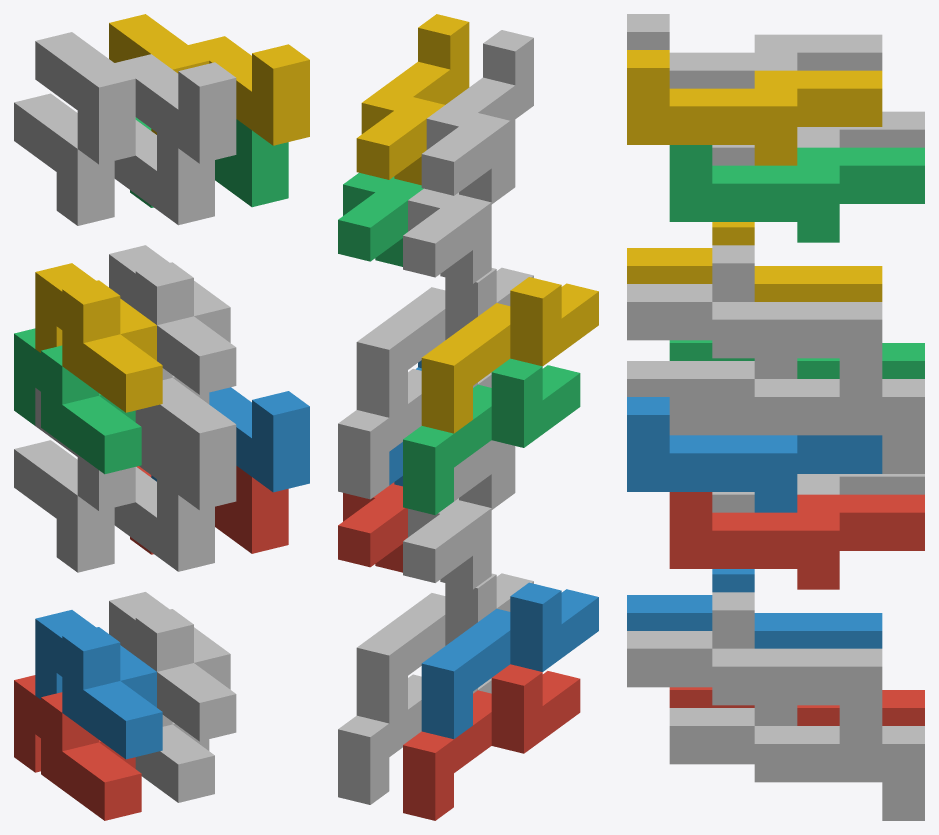
File: tiling.obj
3 renders of one model, left to right at view 1: azimuth 30°, elevation 25°; view 2: azimuth 150°, elevation 25°; view 3: azimuth 270°, elevation 25°, orthographic. The views are drawn at different scales.
Parts seen in each view (by area): view 1: copy_2_domain_4, copy_2_domain_1, copy_2_domain_3, copy_1_domain_2, copy_1_domain_4, copy_2_domain_8, copy_1_domain_8, copy_1_domain_6, copy_1_domain_1, copy_1_domain_3, copy_2_domain_2, copy_2_domain_6 (+4 smaller); view 2: copy_1_domain_2, copy_1_domain_4, copy_2_domain_4, copy_1_domain_1, copy_1_domain_3, copy_2_domain_8, copy_1_domain_8, copy_1_domain_6, copy_2_domain_3, copy_2_domain_1, copy_1_domain_5, copy_1_domain_7 (+4 smaller); view 3: copy_1_domain_6, copy_1_domain_8, copy_2_domain_8, copy_2_domain_5, copy_2_domain_7, copy_1_domain_7, copy_1_domain_5, copy_2_domain_6, copy_2_domain_4, copy_1_domain_2, copy_1_domain_4, copy_2_domain_3 (+4 smaller).
Boxes of the visible parts, x1,y1,x2,y2 form: copy_2_domain_4: (35, 32, 236, 164); copy_2_domain_1: (14, 440, 214, 572); copy_2_domain_3: (14, 93, 214, 225); copy_1_domain_2: (35, 610, 162, 759); copy_1_domain_4: (35, 263, 162, 412); copy_2_domain_8: (109, 14, 309, 145); copy_1_domain_8: (109, 245, 236, 394); copy_1_domain_6: (109, 592, 236, 741); copy_1_domain_1: (14, 675, 141, 820); copy_1_domain_3: (14, 328, 141, 474); copy_2_domain_2: (35, 388, 236, 511); copy_2_domain_6: (151, 387, 309, 492); copy_1_domain_2: (421, 582, 598, 739); copy_1_domain_4: (421, 277, 598, 433); copy_2_domain_4: (421, 30, 533, 202); copy_1_domain_1: (403, 664, 580, 820); copy_1_domain_3: (403, 358, 580, 515); copy_2_domain_8: (356, 14, 469, 185); copy_1_domain_8: (356, 267, 533, 417); copy_1_domain_6: (356, 573, 533, 723); copy_2_domain_3: (403, 120, 515, 283); copy_2_domain_1: (403, 445, 515, 589); copy_1_domain_5: (338, 674, 491, 804); copy_1_domain_7: (338, 369, 491, 499); copy_1_domain_6: (627, 592, 882, 743); copy_1_domain_8: (627, 245, 882, 396); copy_2_domain_8: (627, 50, 882, 165); copy_2_domain_5: (669, 492, 924, 589); copy_2_domain_7: (669, 145, 924, 242); copy_1_domain_7: (669, 358, 924, 473); copy_1_domain_5: (669, 705, 924, 820); copy_2_domain_6: (627, 397, 882, 512); copy_2_domain_4: (627, 14, 882, 88); copy_1_domain_2: (627, 569, 882, 648); copy_1_domain_4: (627, 222, 882, 301); copy_2_domain_3: (712, 111, 924, 165).
Bounding box in the file's own units: 5 × 20 × 7.
